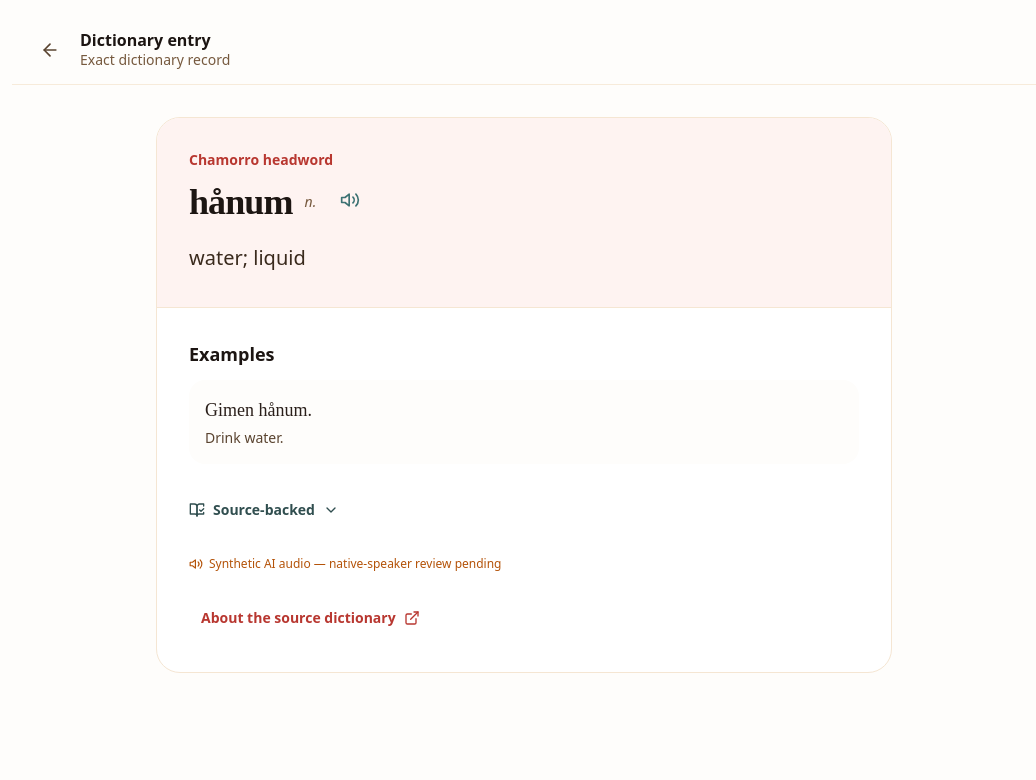
Scenario: stable vocabulary records › renders exact entry details and returns to the preserved internal context
Expected: the heading "hånum" is shown, [189,182,293,222]
Expected: the text "water; liquid" is shown, [189,244,306,271]
Click the link named "Back to where you were" at (50, 50), box [40,40,60,60]
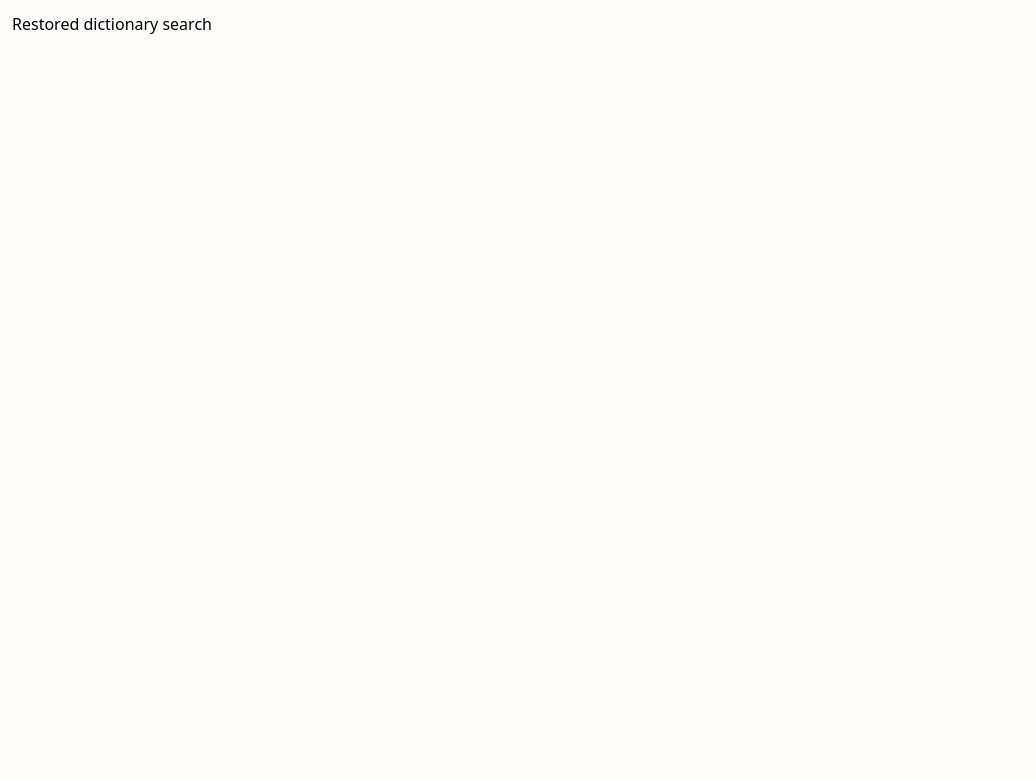
Result: the text "Restored dictionary search" is shown at [12,13,212,35]
